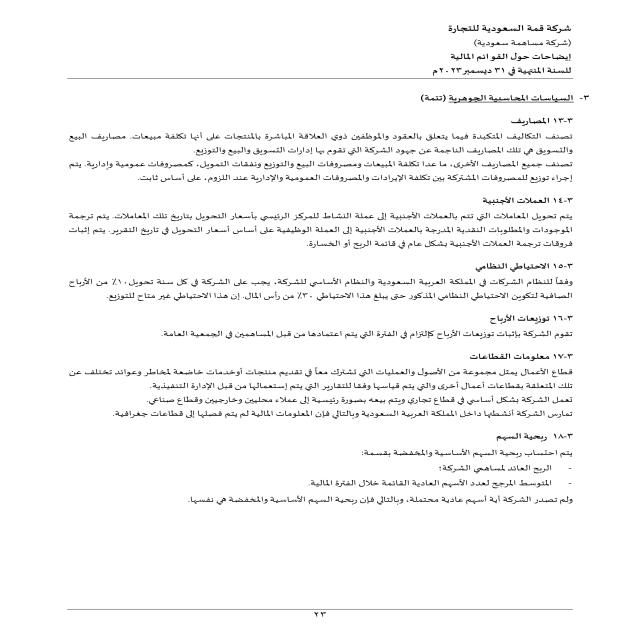notes: (441, 52, 577, 65)
text: (32, 93, 594, 522)
